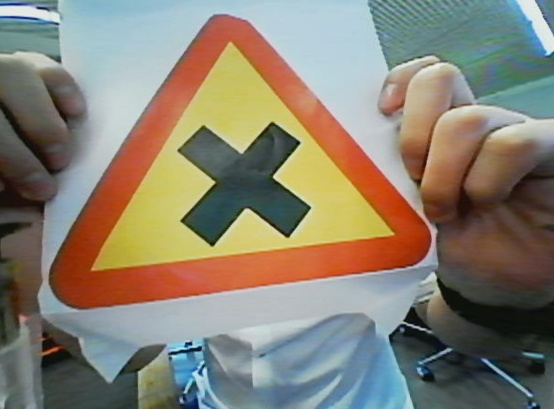junction: (13, 15, 476, 299)
